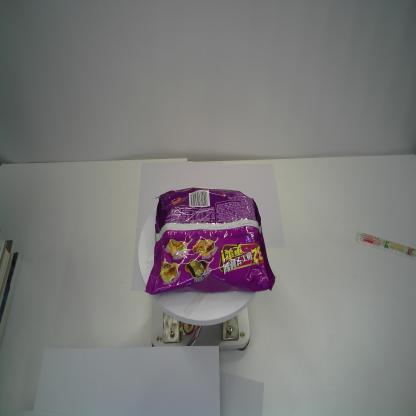Instant Noodles: (144, 185, 276, 295)
